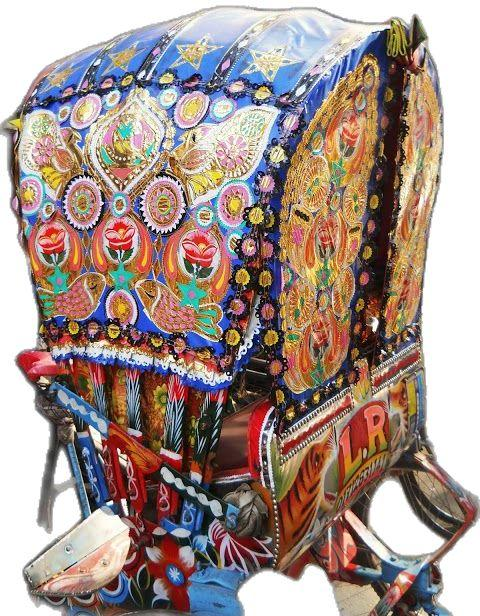Rickshaw: (11, 7, 475, 615)
